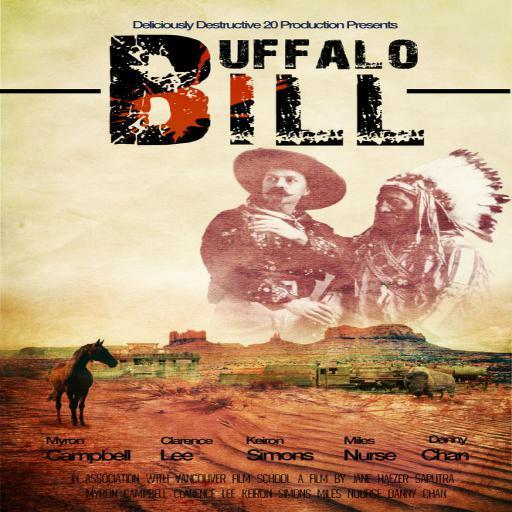horse: (38, 336, 124, 428)
